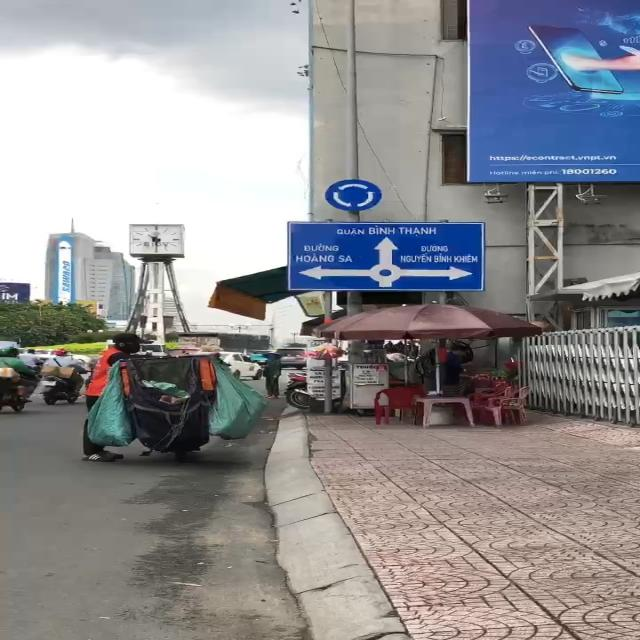Bien bao noi giao nhau chay theo vong xuyen: (323, 177, 388, 215)
